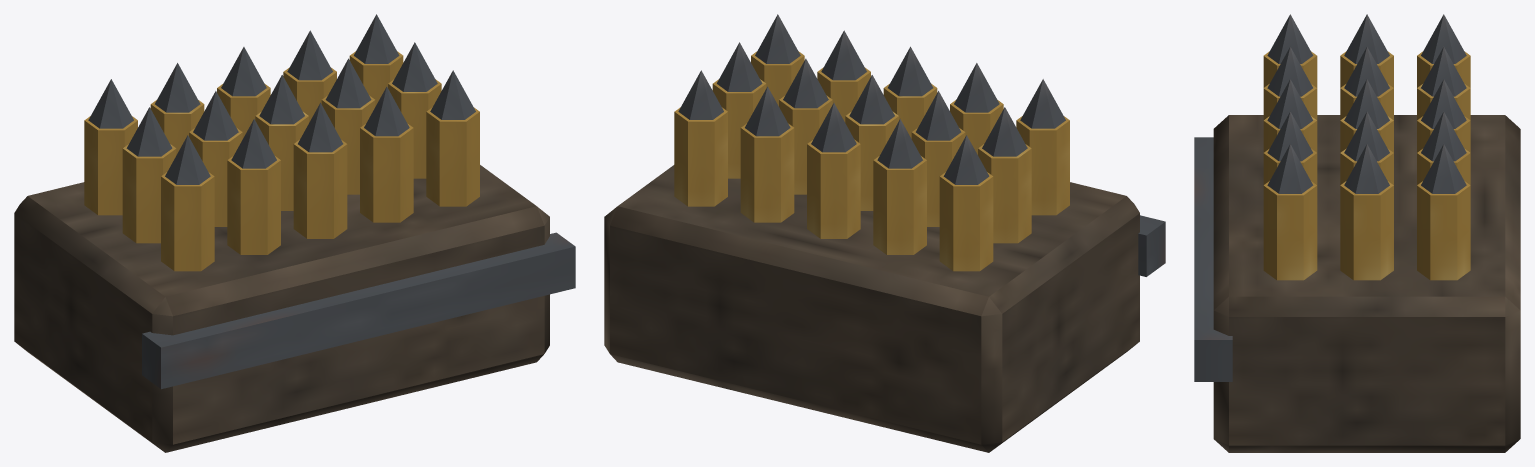
File: SM_Pickup_Ammo.fbx
3 views of the same model, side by side, from view 1: azimuth 30°, elevation 25°; view 2: azimuth 150°, elevation 25°; view 3: azimuth 270°, elevation 25° (orthographic).
Parts seen in each view (by area): view 1: SM_Pickup_Ammo; view 2: SM_Pickup_Ammo; view 3: SM_Pickup_Ammo.
Boxes of the visible parts, box(x1,y1,x2,y2) form: SM_Pickup_Ammo: box(14, 14, 575, 452); SM_Pickup_Ammo: box(604, 14, 1165, 452); SM_Pickup_Ammo: box(1194, 14, 1520, 452).
Size of the model in its own units: 1.25 by 0.815 by 0.85.
1 material, 1 textured.
